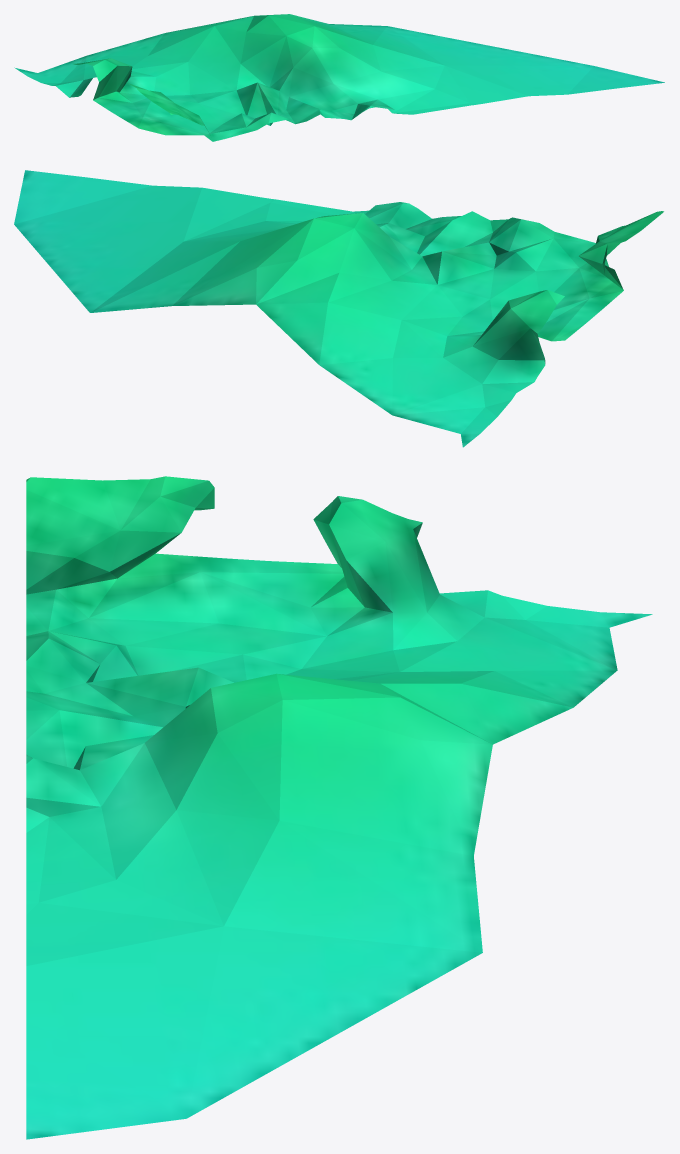
The picture shows the model from 3 angles, top to bottom: view 1: azimuth 30°, elevation 25°; view 2: azimuth 150°, elevation 25°; view 3: azimuth 270°, elevation 25°; orthographic projection. The views are drawn at different scales.
Bounding box in the file's own units: 5.45 × 0.9986 × 2.99.
Materials: 1 (1 with a texture image).
